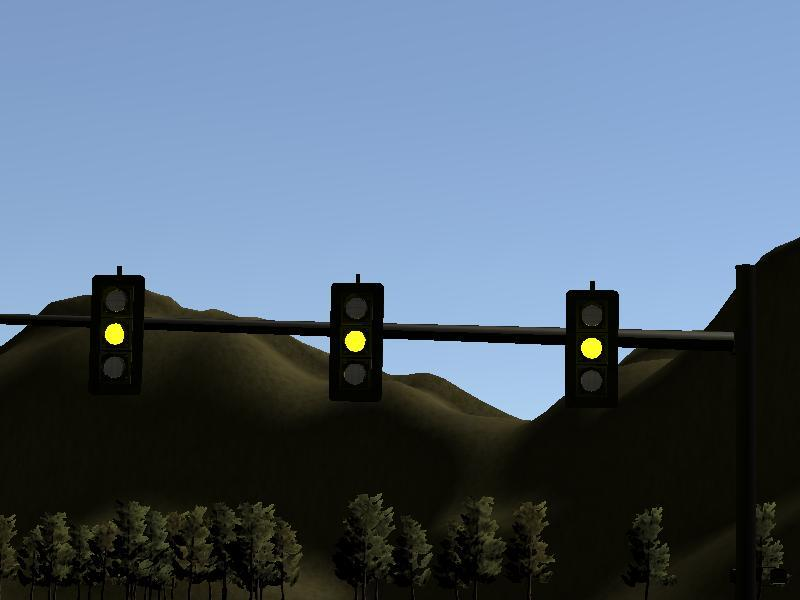Yellow: (330, 283, 384, 403), (565, 290, 618, 409), (92, 274, 144, 395)
